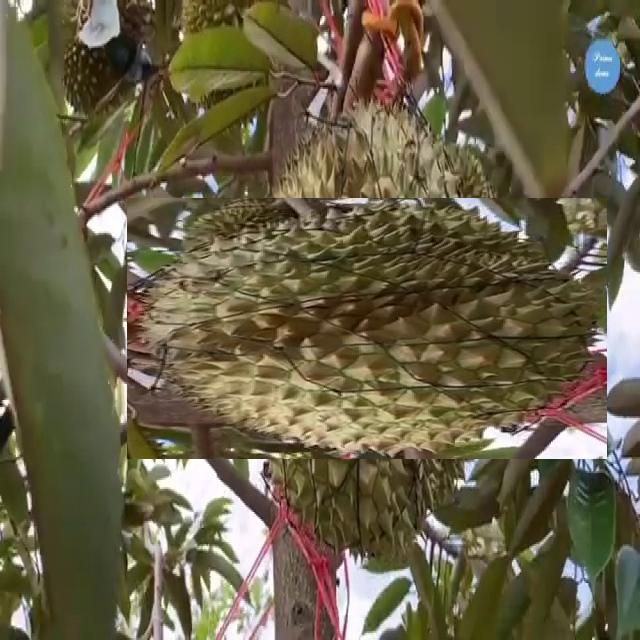durian: (181, 143, 553, 514)
